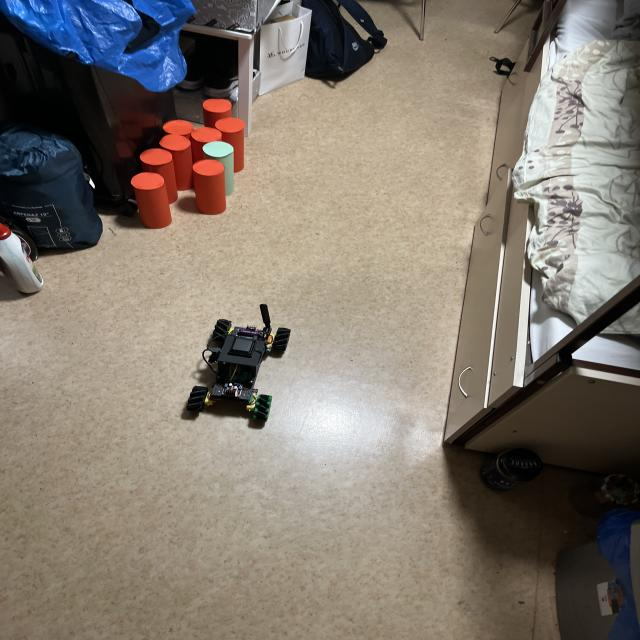robot: (186, 304, 290, 420)
